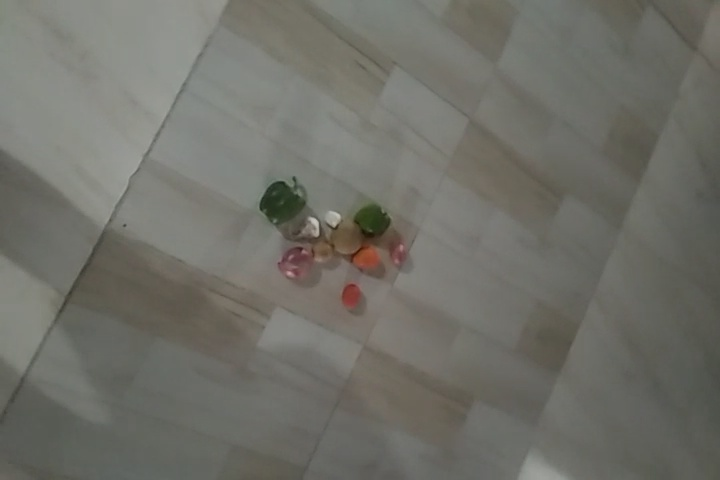capsicum: (262, 175, 296, 225), (351, 202, 389, 239)
garlic: (303, 214, 322, 242), (326, 208, 343, 233)
onion: (274, 251, 313, 286), (389, 245, 408, 268)
potato: (304, 236, 334, 264)
tomato: (331, 221, 357, 254), (352, 249, 381, 275), (341, 278, 358, 307)
